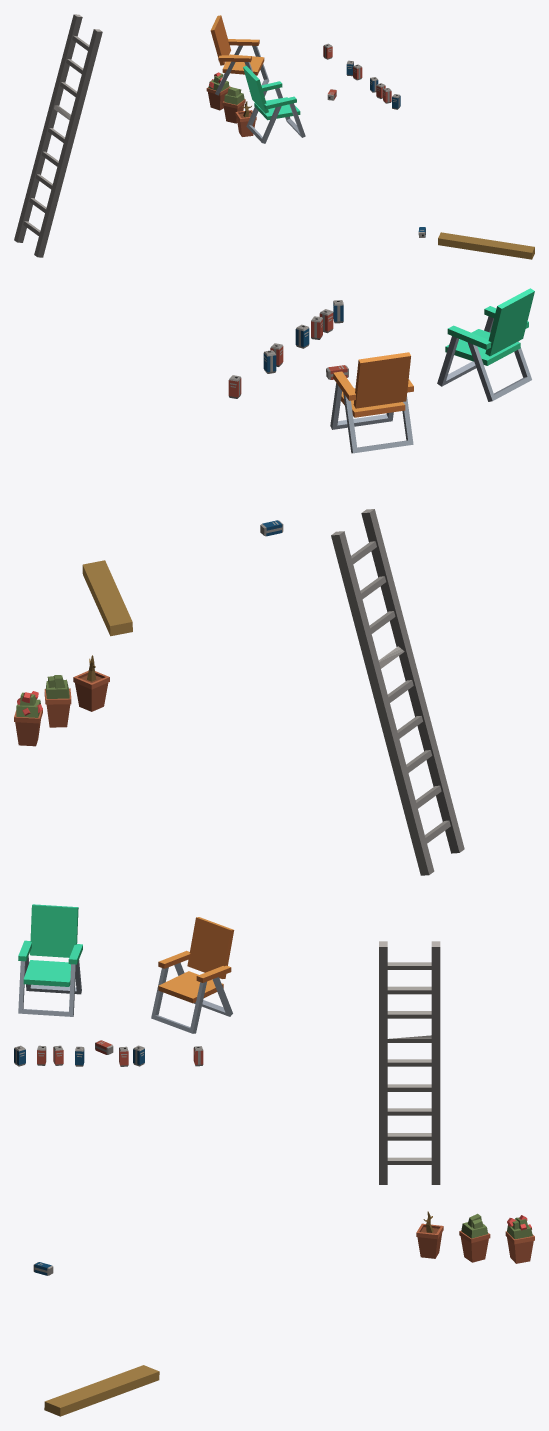
File: SA_Bld_Trailer_Extras_03.gltf
3 views of the same model, one above another, from view 1: azimuth 30°, elevation 25°; view 2: azimuth 150°, elevation 25°; view 3: azimuth 270°, elevation 25° (orthographic). The views are drawn at different scales.
Visible parts, largest first — view 1: SA_Bld_Trailer_Extras_03; view 2: SA_Bld_Trailer_Extras_03; view 3: SA_Bld_Trailer_Extras_03.
Boxes of the visible parts, x1,y1,x2,y2 form: SA_Bld_Trailer_Extras_03: [14, 14, 534, 259]; SA_Bld_Trailer_Extras_03: [14, 288, 534, 875]; SA_Bld_Trailer_Extras_03: [14, 904, 534, 1416].
Size of the model in its own units: 10.8 by 7.01 by 9.93.
Materials: 1 (1 with a texture image).
